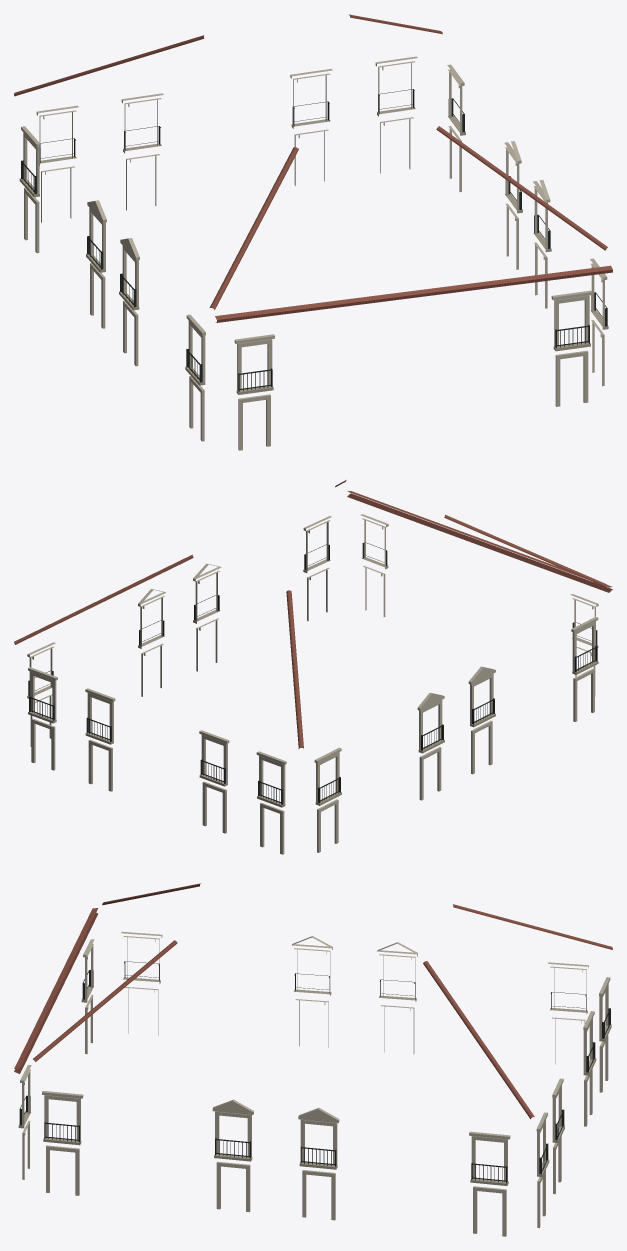
3 renders of one model, top to bottom at view 1: azimuth 30°, elevation 25°; view 2: azimuth 150°, elevation 25°; view 3: azimuth 270°, elevation 25°, orthographic. The views are drawn at different scales.
Visible parts, largest first — view 1: detail; view 2: detail; view 3: detail.
Boxes of the visible parts, box(x1,y1,x2,y2) form: detail: box(14, 14, 612, 450); detail: box(14, 480, 612, 854); detail: box(14, 883, 612, 1236).
Bounding box in the file's own units: 25.89 × 12.23 × 31.59.
